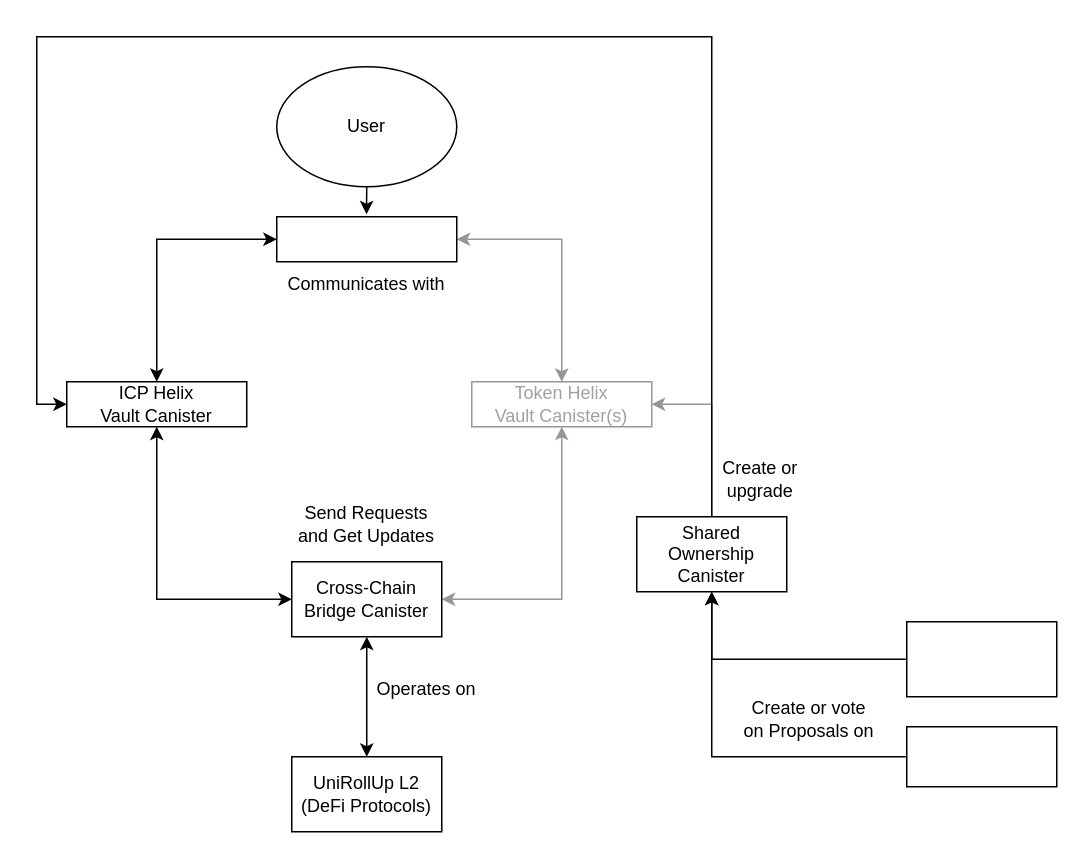
The diagram is 1083 pixels wide and 858 high, and some of its shapes have lost their labels. The centre of each missing label's shape, as x and y in pixels:
Core Helix Vault Canister: pixel 981 756
Frontend Canister: pixel 366 238
Shared Entity Owner (NNS or SNSs): pixel 981 658
